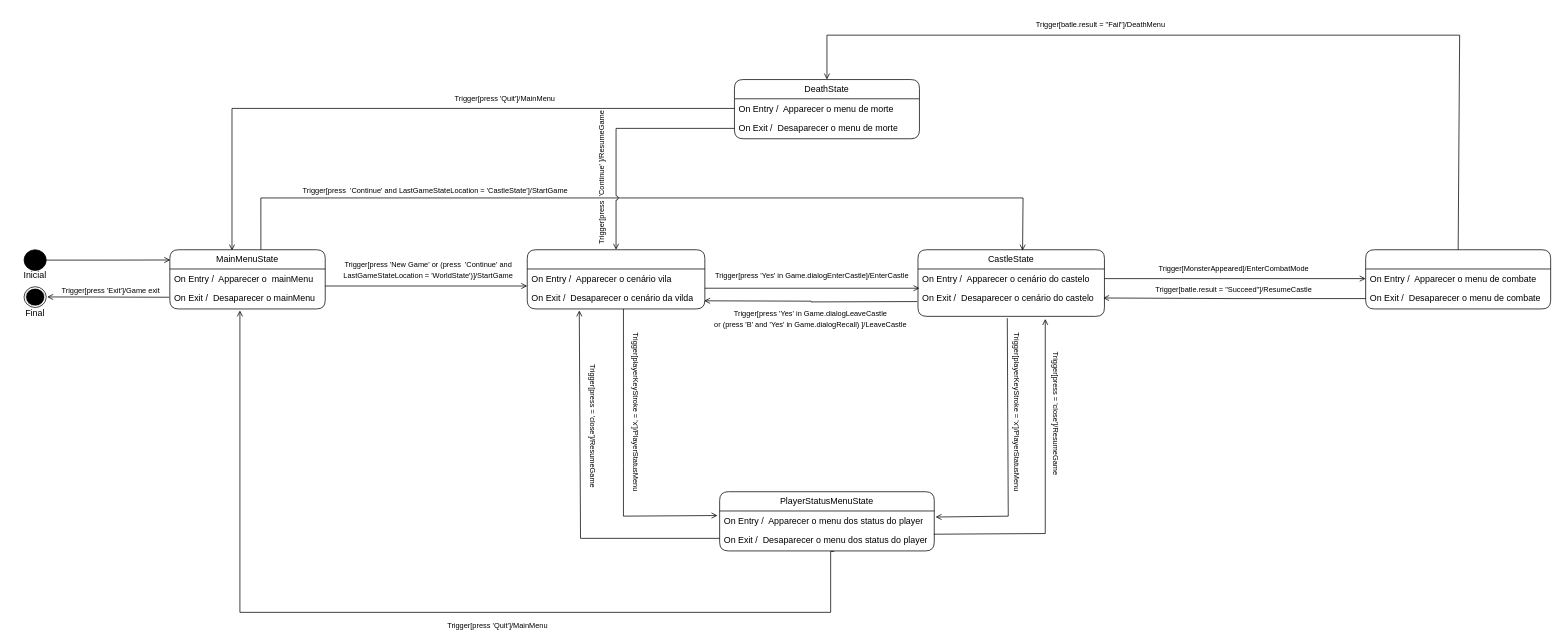
This 1564x644 diagram has some shape labels left out. Here are the shapes that lost their labels. From the top down, the box of each, then its label:
(527, 249, 705, 309): WorldState
(1365, 249, 1551, 309): CombatState
